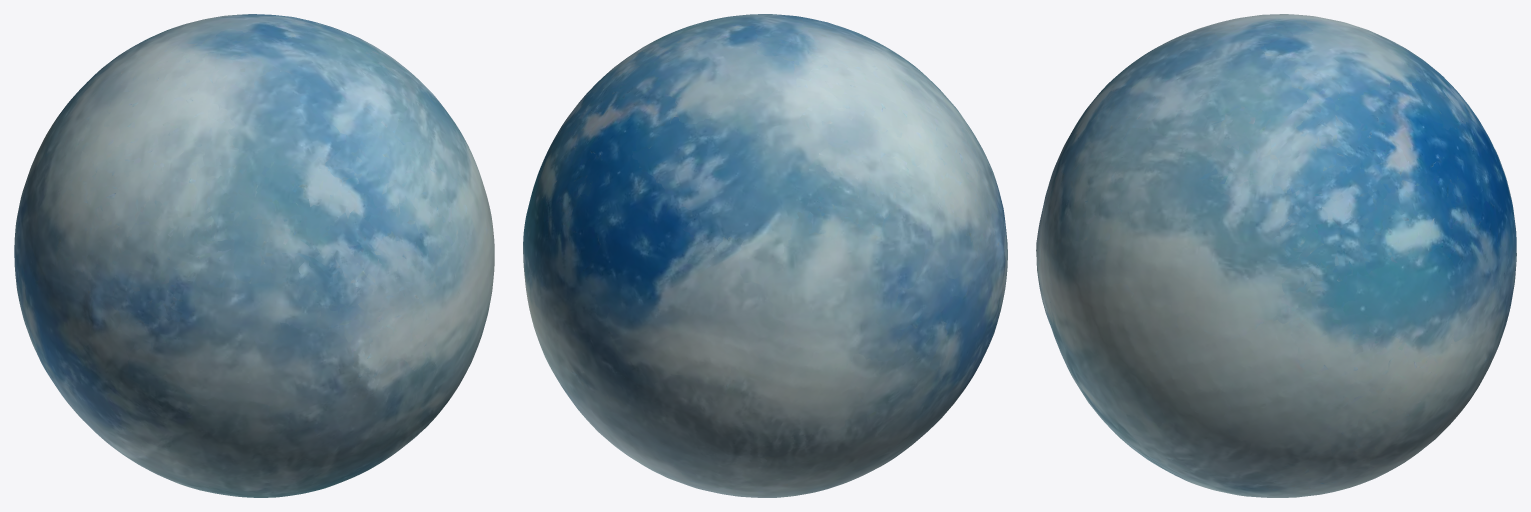
File: earth_pillar.glb
The picture shows the model from 3 angles, left to right: view 1: azimuth 30°, elevation 25°; view 2: azimuth 150°, elevation 25°; view 3: azimuth 270°, elevation 25°; orthographic projection.
Parts seen in each view (by area): view 1: geometry_0; view 2: geometry_0; view 3: geometry_0.
Part boxes in pixels (x1,y1,x2,y2): geometry_0: (14, 14, 494, 497); geometry_0: (523, 14, 1007, 497); geometry_0: (1036, 14, 1516, 497).
Size of the model in its own units: 0.9965 by 1 by 0.9915.
Materials: 1 (1 with a texture image).
